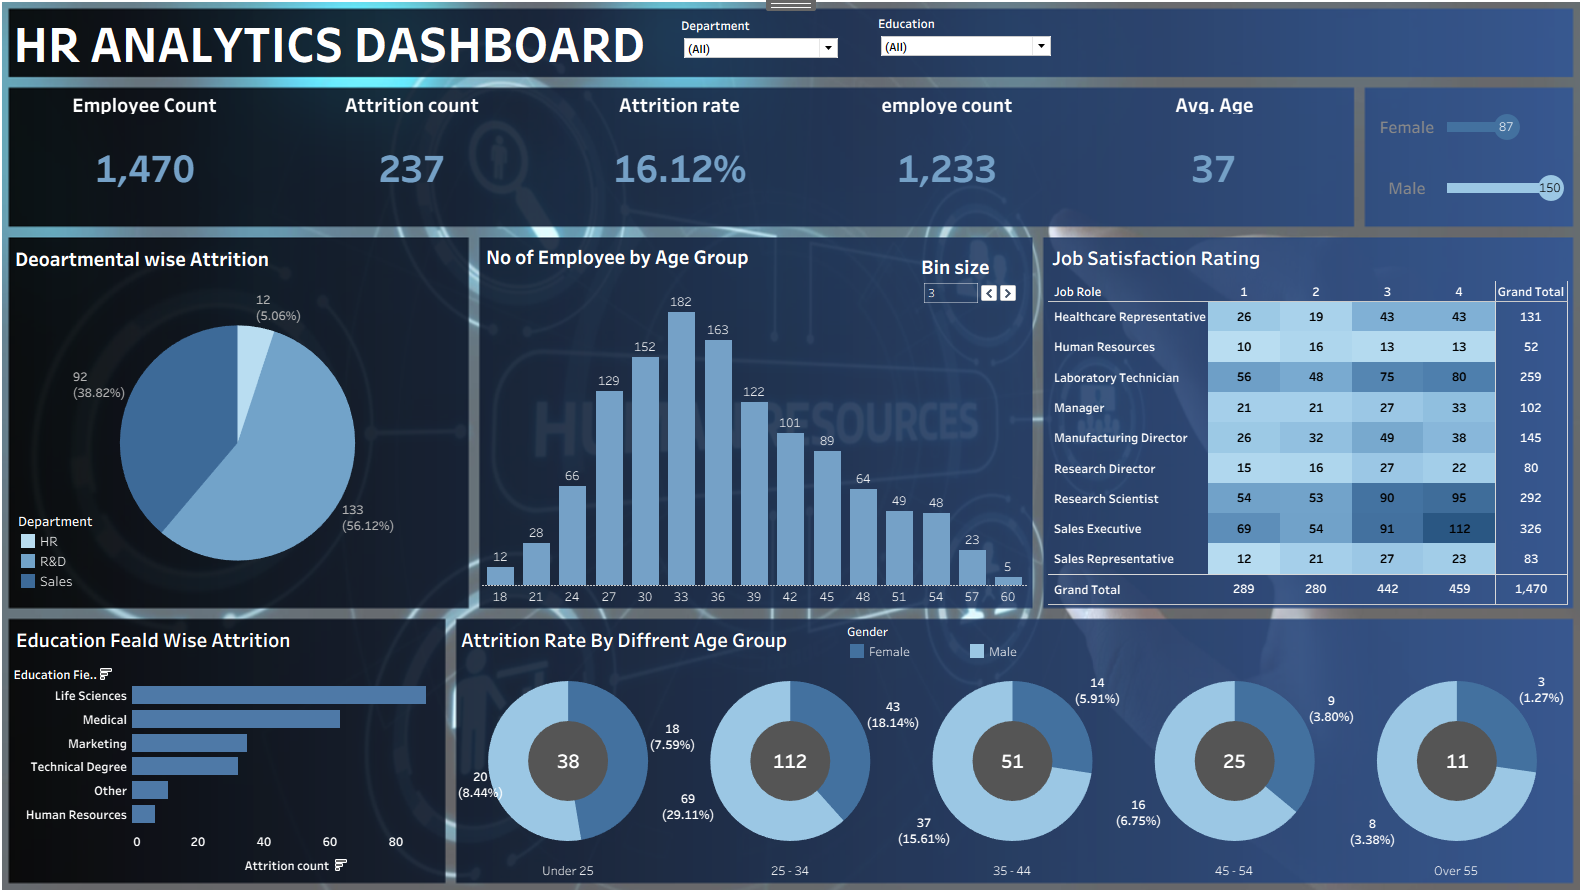

What the dashboard file says about the page in this screenshot:
{"tool":"tableau","page":{"name":"HR Analytics Dashboard ","canvas":[1000,1000],"units":"permille","ordinal":0},"visuals":[{"type":"image","param":"Image/HR background.pptx.png","box":[0,0,1000,1000]},{"type":"text","box":[43.3,15.6,830.9,67]},{"type":"filter","title":"Deoartmental wise Attrition","param":"[federated.11jg6ii0ctac4q112y32c1r7w9la].[none:Education:nk]","box":[550.6,19,103,53.6]},{"type":"filter","title":"Deoartmental wise Attrition","param":"[federated.11jg6ii0ctac4q112y32c1r7w9la].[none:Department:nk]","box":[435.3,21.2,93.6,61.4]},{"type":"worksheet","title":"KPI ","mark":"Automatic","box":[43.3,107.1,782.3,140.6]},{"type":"worksheet","title":"attribution by gender","mark":"Automatic","rows":["Gender"],"cols":["Calculation_0886538047418368","Calculation_0886538047418368"],"box":[836.8,109.4,118.8,136.2]},{"type":"worksheet","title":"No of Employee by Age Group","mark":"Automatic","rows":["Calculation_0886538049376258"],"cols":["Age (bin)"],"box":[318.9,269,318.9,409.6]},{"type":"worksheet","title":"Job Satisfaction Rating ","mark":"Square","rows":["Job Role"],"cols":["Job Satisfaction"],"box":[650.1,270.1,304.3,407.4]},{"type":"worksheet","title":"Deoartmental wise Attrition","mark":"Pie","box":[43.3,271.2,265.1,405.1]},{"type":"parameter","param":"[Parameters].[Parameter 1]","box":[576,284.1,57.2,83.2]},{"type":"legend","title":"Deoartmental wise Attrition","param":"[federated.11jg6ii0ctac4q112y32c1r7w9la].[none:Department:nk]","box":[47.4,573.7,74.9,99.3]},{"type":"worksheet","title":"Education Feald Wise Attrition ","mark":"Automatic","rows":["Education Field"],"cols":["Calculation_0886538047418368"],"box":[43.9,696.4,251.6,289.1]},{"type":"worksheet","title":"Attrition Rate By Diffrent Age Group","mark":"Pie","rows":["Calculation_0767242056839169","Calculation_0767242056839169"],"cols":["CF_age band"],"box":[304.3,696.4,650.1,287.9]},{"type":"legend","title":"Attrition Rate By Diffrent Age Group","param":"[federated.11jg6ii0ctac4q112y32c1r7w9la].[none:Gender:nk]","box":[532.5,697.5,152.7,45.8]}]}

Visuals, with their boxes on the dashboard's canvas, which has no fixed pixel size, in thousandths of its width and height (x1, y1, x2, y2). These are canvas units, not pixel positions in the 1581x891 screenshot, which may show the page scaled, cropped or inside an application window:
image: locate(0, 0, 1000, 1000)
text: locate(43, 16, 874, 83)
"Deoartmental wise Attrition" filter: locate(551, 19, 654, 73)
"Deoartmental wise Attrition" filter: locate(435, 21, 529, 83)
"KPI " worksheet: locate(43, 107, 826, 248)
"attribution by gender" worksheet: locate(837, 109, 956, 246)
"No of Employee by Age Group" worksheet: locate(319, 269, 638, 679)
"Job Satisfaction Rating " worksheet (Square marks): locate(650, 270, 954, 678)
"Deoartmental wise Attrition" worksheet (Pie marks): locate(43, 271, 308, 676)
parameter: locate(576, 284, 633, 367)
"Deoartmental wise Attrition" legend: locate(47, 574, 122, 673)
"Education Feald Wise Attrition " worksheet: locate(44, 696, 296, 986)
"Attrition Rate By Diffrent Age Group" worksheet (Pie marks): locate(304, 696, 954, 984)
"Attrition Rate By Diffrent Age Group" legend: locate(532, 698, 685, 743)
